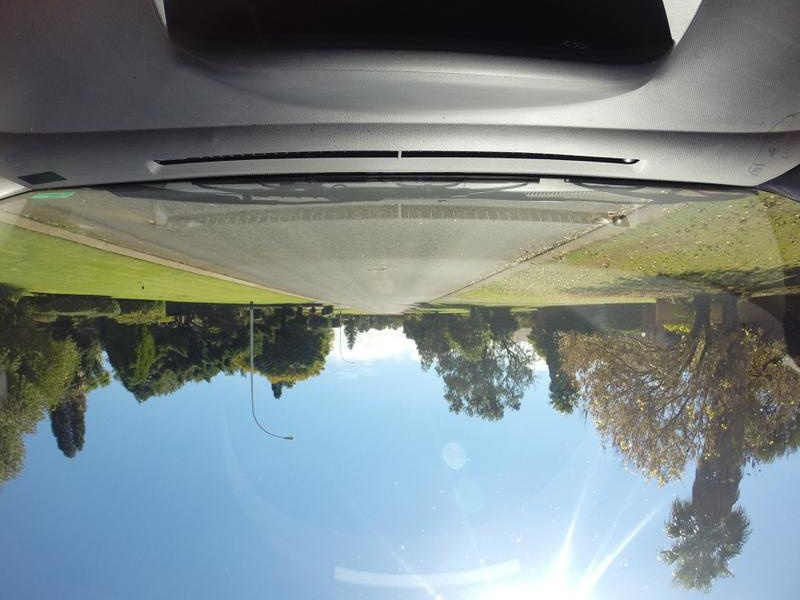pothole: (351, 256, 389, 278)
